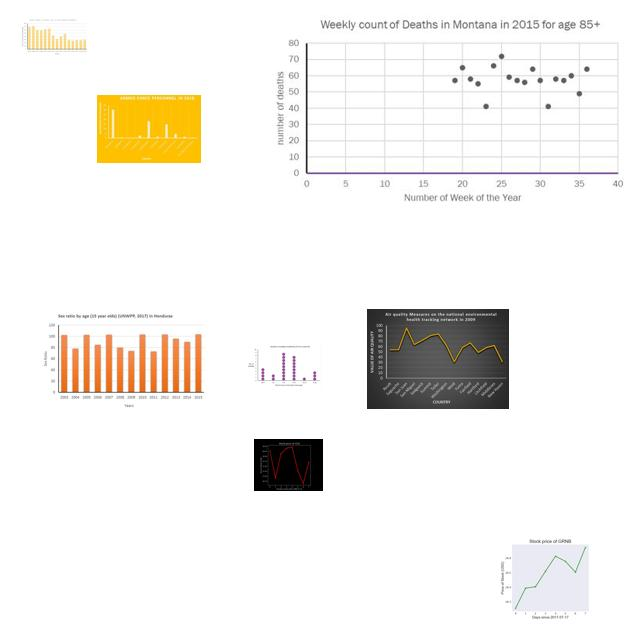Graph: (270, 15, 630, 210), (37, 310, 210, 412), (367, 309, 509, 409), (491, 534, 607, 621), (97, 95, 201, 163), (254, 439, 323, 491), (246, 344, 322, 388), (20, 18, 88, 56)
